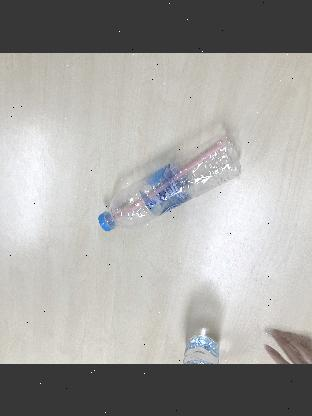Plastic Bottle: (98, 138, 240, 230)
